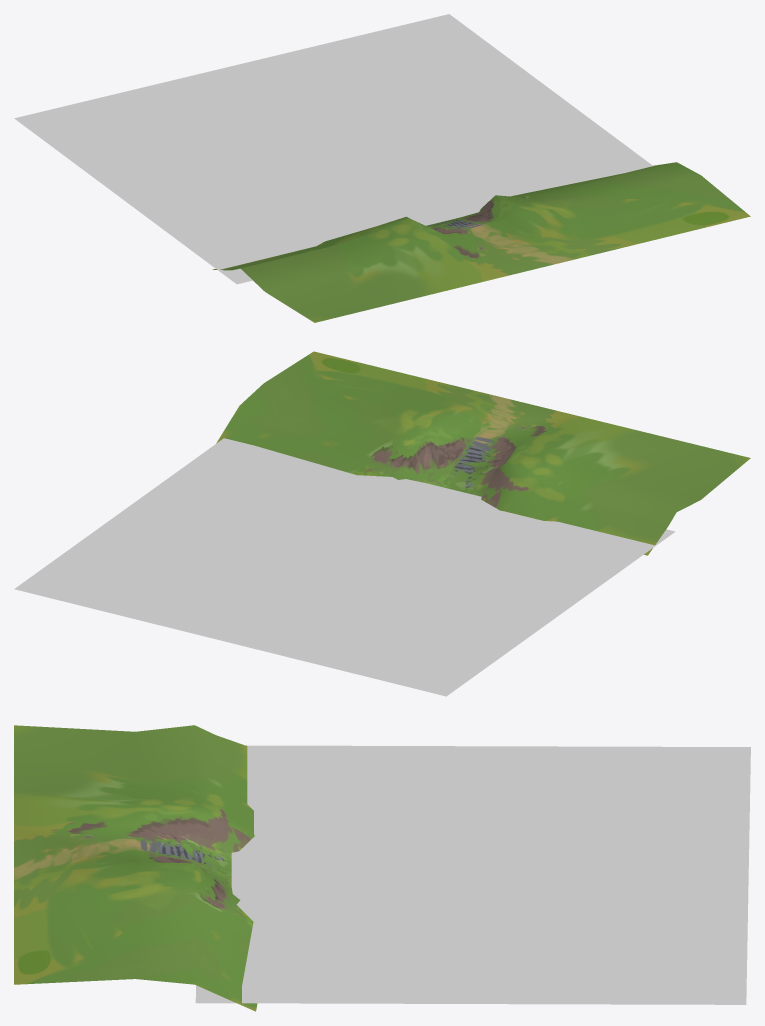
Rendered from level1.fbx.
The picture shows the model from 3 angles, top to bottom: view 1: azimuth 30°, elevation 25°; view 2: azimuth 150°, elevation 25°; view 3: azimuth 270°, elevation 25°; orthographic projection. The views are drawn at different scales.
Parts seen in each view (by area): view 1: ground_1_0, ground_1_1; view 2: ground_1_0, ground_1_1; view 3: ground_1_0, ground_1_1.
Boxes of the visible parts, bbox=[...] form: ground_1_0: bbox=[14, 14, 652, 284]; ground_1_1: bbox=[212, 162, 750, 322]; ground_1_0: bbox=[14, 438, 675, 696]; ground_1_1: bbox=[216, 351, 750, 555]; ground_1_0: bbox=[195, 745, 750, 1004]; ground_1_1: bbox=[14, 725, 257, 1011].
Size of what is drawn, in the model's own units: 1109 by 83.05 by 1327.
